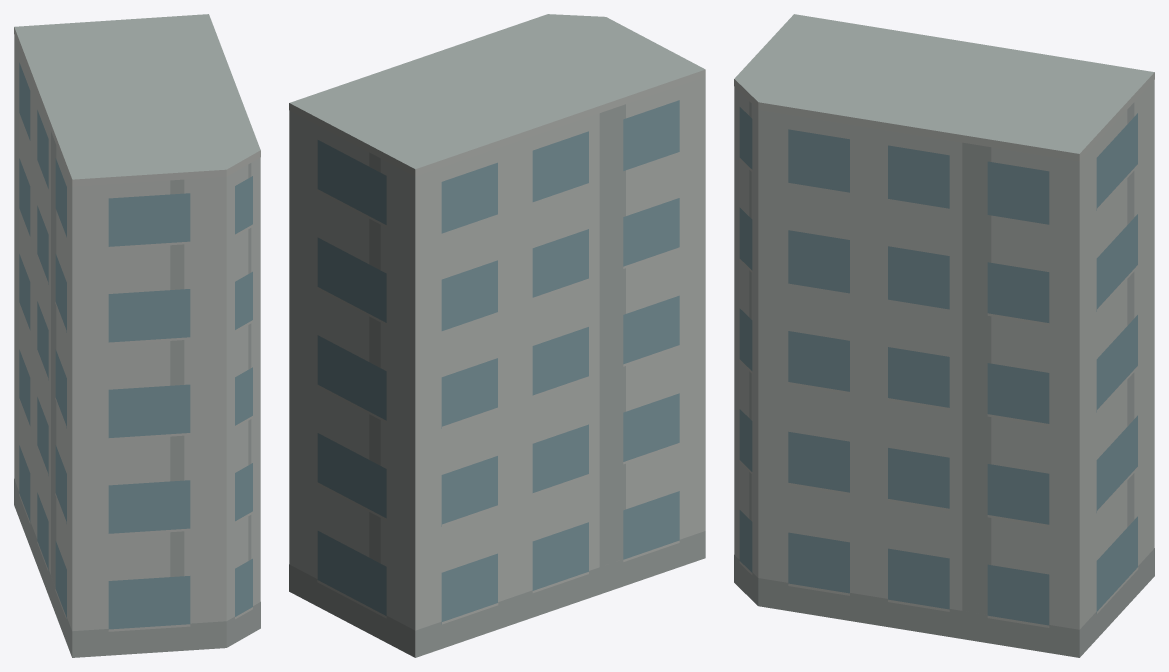
File: survey-upis-32515212.glb
3 views of the same model, side by side, from view 1: azimuth 30°, elevation 25°; view 2: azimuth 150°, elevation 25°; view 3: azimuth 270°, elevation 25° (orthographic). The views are drawn at different scales.
Visible parts, largest first — view 1: survey-upis-32515212.tmp; view 2: survey-upis-32515212.tmp; view 3: survey-upis-32515212.tmp.
Part boxes in pixels (bbox=[...]): survey-upis-32515212.tmp: bbox=[14, 14, 260, 657]; survey-upis-32515212.tmp: bbox=[289, 14, 705, 657]; survey-upis-32515212.tmp: bbox=[734, 14, 1154, 657].
Bounding box in the file's own units: 9.72 × 16.3 × 12.34.
